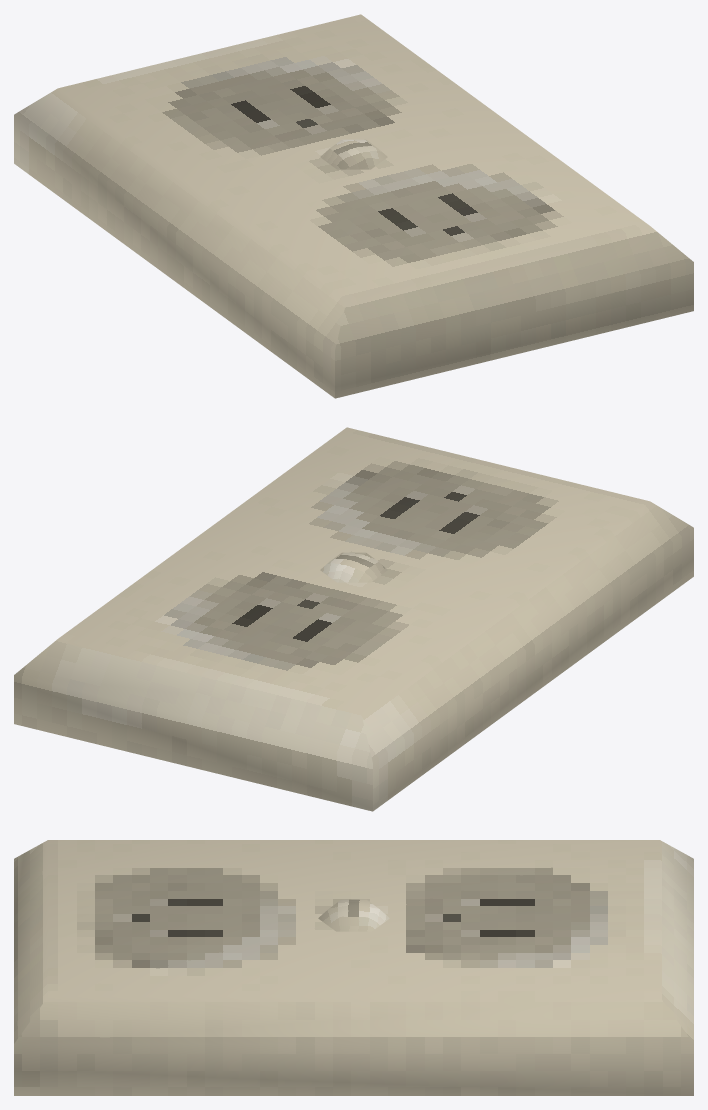
Rendered from xury_wall_socket.glb.
3 renders of one model, top to bottom at view 1: azimuth 30°, elevation 25°; view 2: azimuth 150°, elevation 25°; view 3: azimuth 270°, elevation 25°, orthographic. The views are drawn at different scales.
Visible parts, largest first — view 1: WallPlug; view 2: WallPlug; view 3: WallPlug.
Boxes of the visible parts, bbox=[...] form: WallPlug: bbox=[14, 14, 693, 398]; WallPlug: bbox=[14, 427, 693, 811]; WallPlug: bbox=[14, 840, 693, 1095].
Bounding box in the file's own units: 0.6452 × 0.1591 × 1.
Materials: 1 (1 with a texture image).
